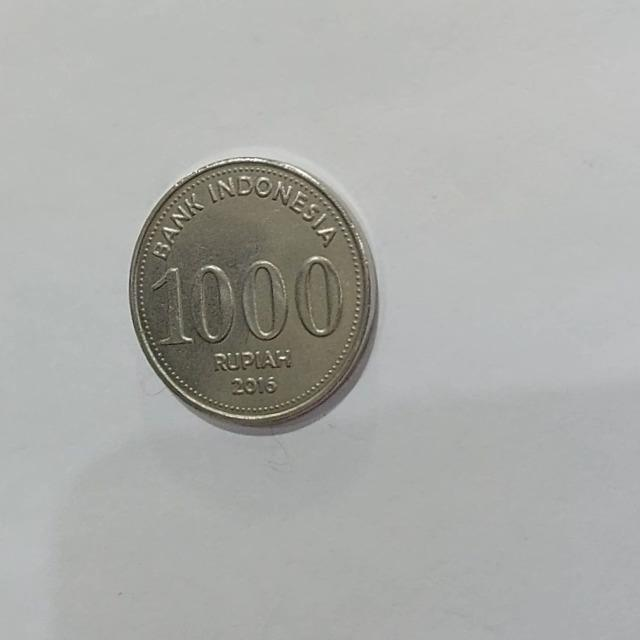Rp100: (126, 154, 378, 433)
